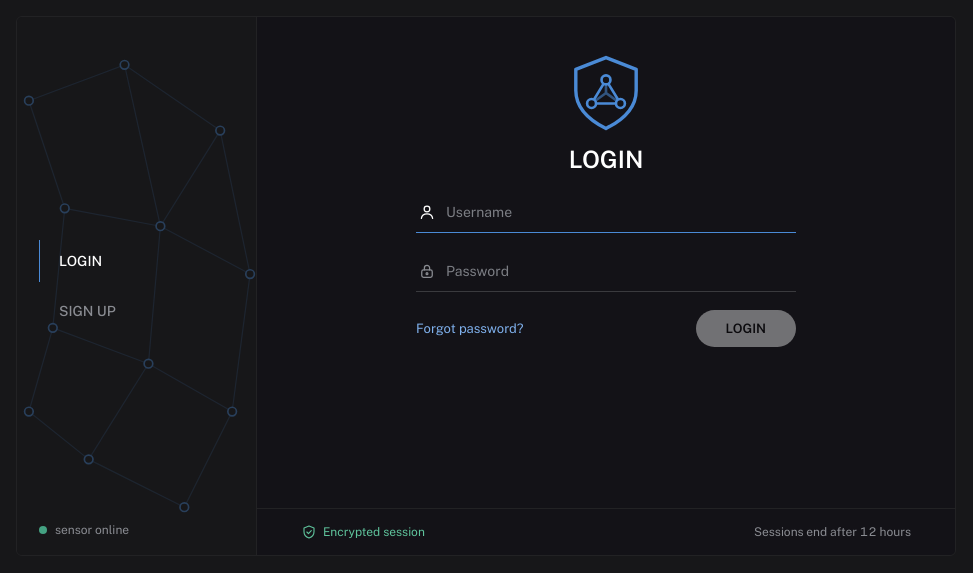
Test: signing in › keeps asking for a code that is wrong
Step 1. Type "alice" into the field with placeholder "Username" → (620, 212), box [446, 198, 794, 226]
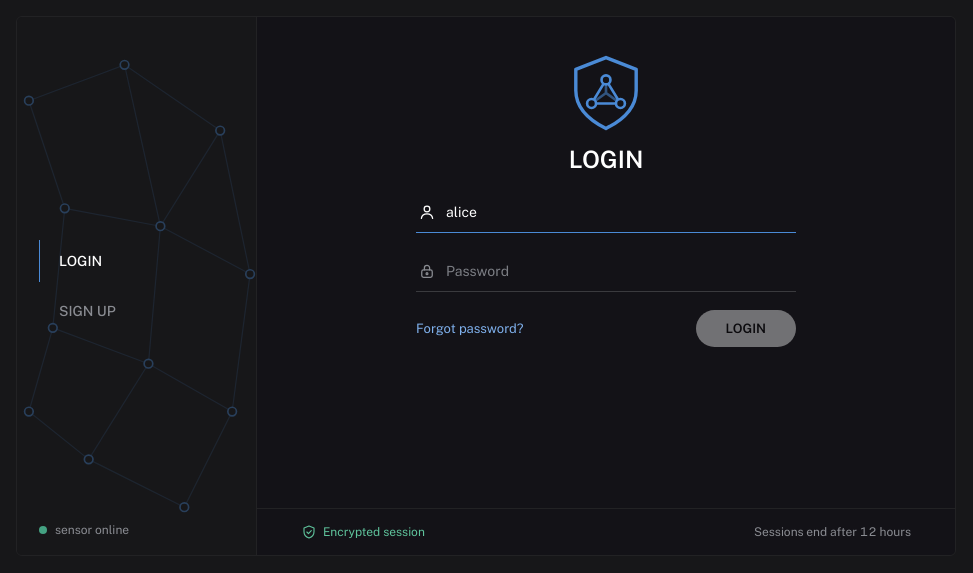
Step 2. Type "correct horse battery" into the password field with placeholder "Password" → (620, 271), box [446, 257, 794, 285]
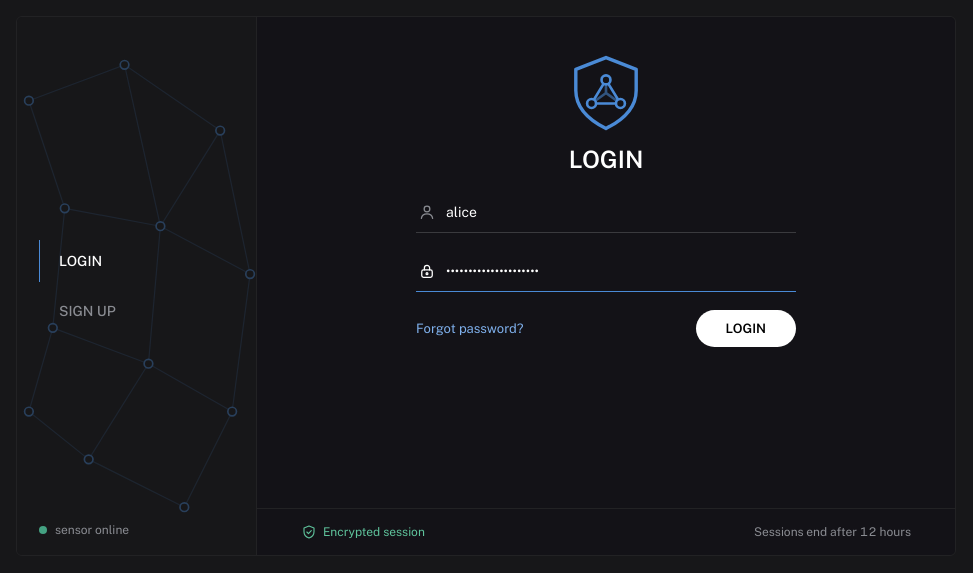
Step 3. Click the button with class "auth-go" → (746, 328), box [696, 310, 796, 347]
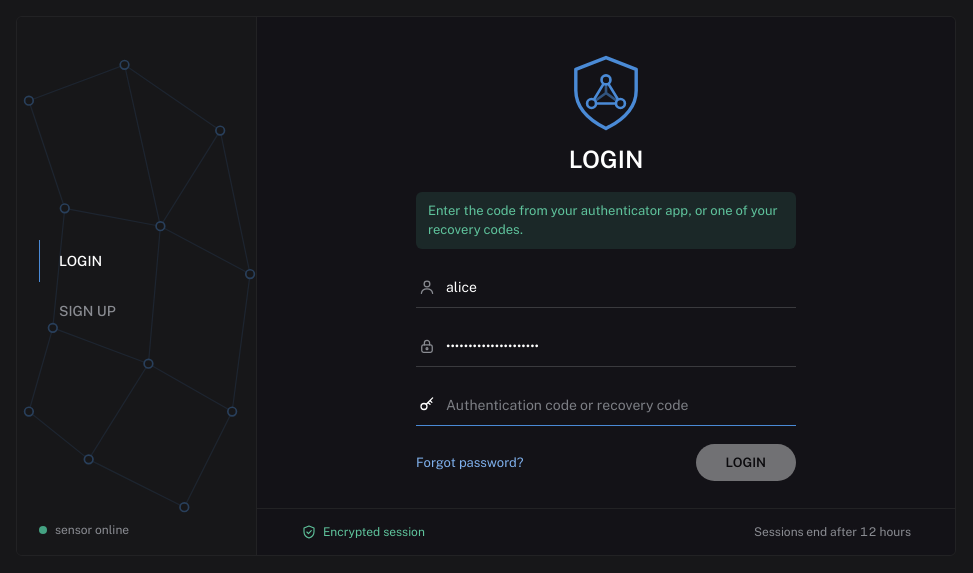
Step 4. Type "000000" into the field with placeholder "Authentication code or recovery code" → (620, 405), box [446, 391, 794, 419]
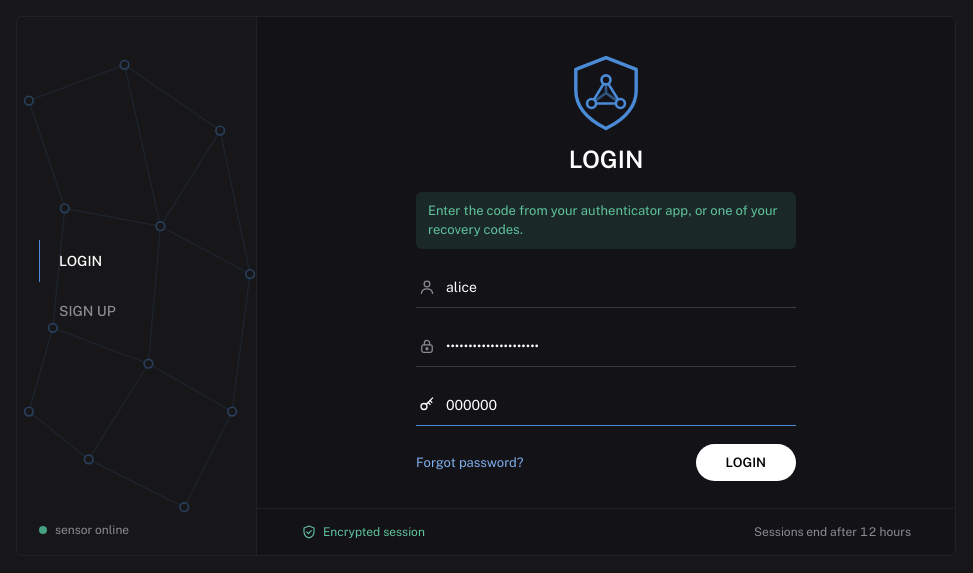
Step 5. Click the button with class "auth-go" → (746, 462), box [696, 444, 796, 481]
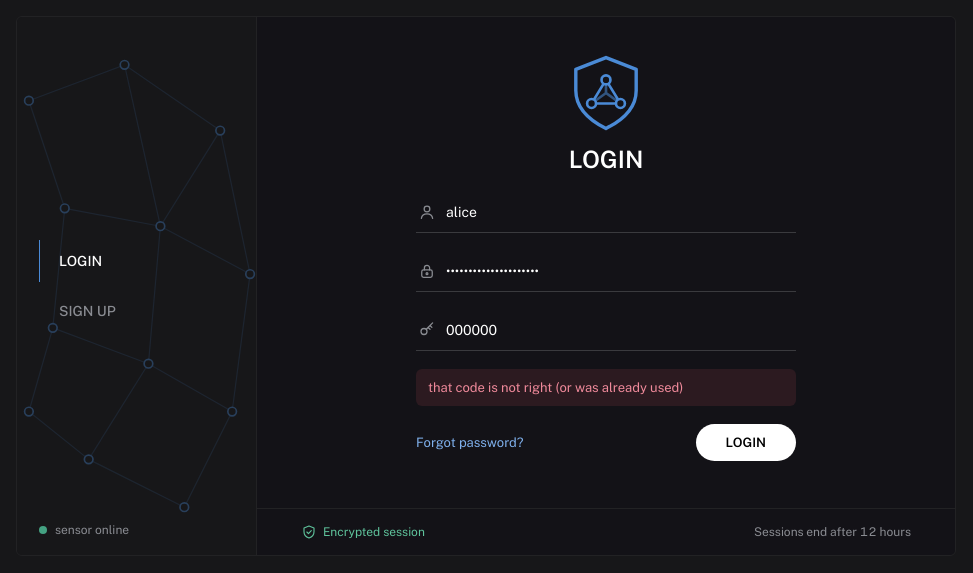
Expected: the text "that code is not right (or was already used)" is shown, [416, 369, 796, 406]
